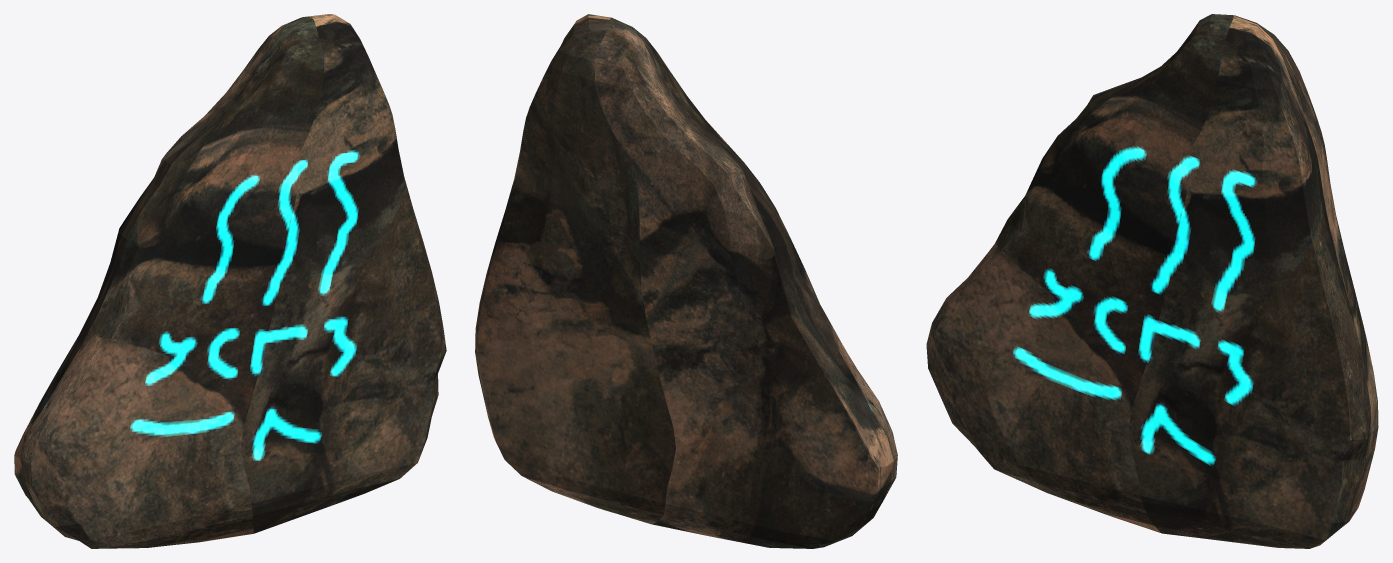
Rendered from TabletDemo.fbx.
3 views of the same model, side by side, from view 1: azimuth 30°, elevation 25°; view 2: azimuth 150°, elevation 25°; view 3: azimuth 330°, elevation 25° (orthographic). The views are drawn at different scales.
Visible parts, largest first — view 1: Cube; view 2: Cube; view 3: Cube.
Boxes of the visible parts, x1,y1,x2,y2 form: Cube: [14, 14, 446, 548]; Cube: [475, 14, 897, 548]; Cube: [926, 14, 1378, 548].
Size of the model in its own units: 402 by 456 by 57.39.
